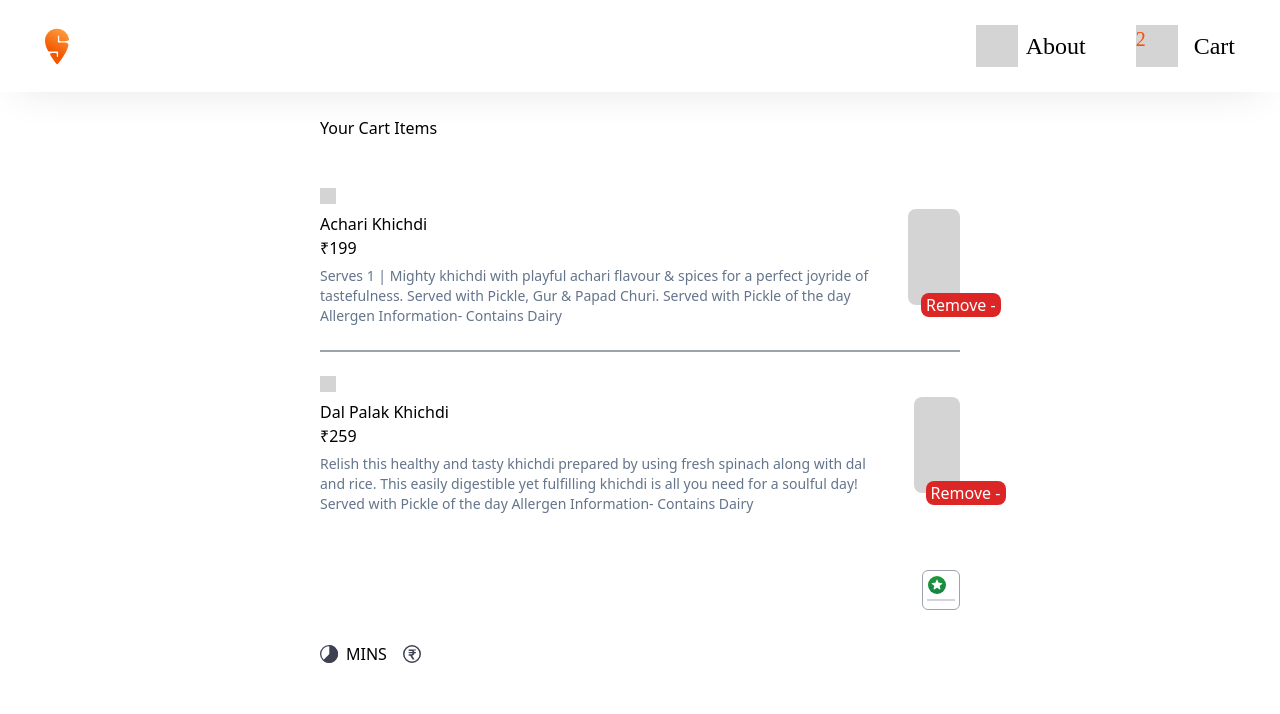
Test: should remove items from cart on click of remove button and decrement cart items number
Click the 1st button "Remove -": (961, 305) [921, 293, 1001, 317]
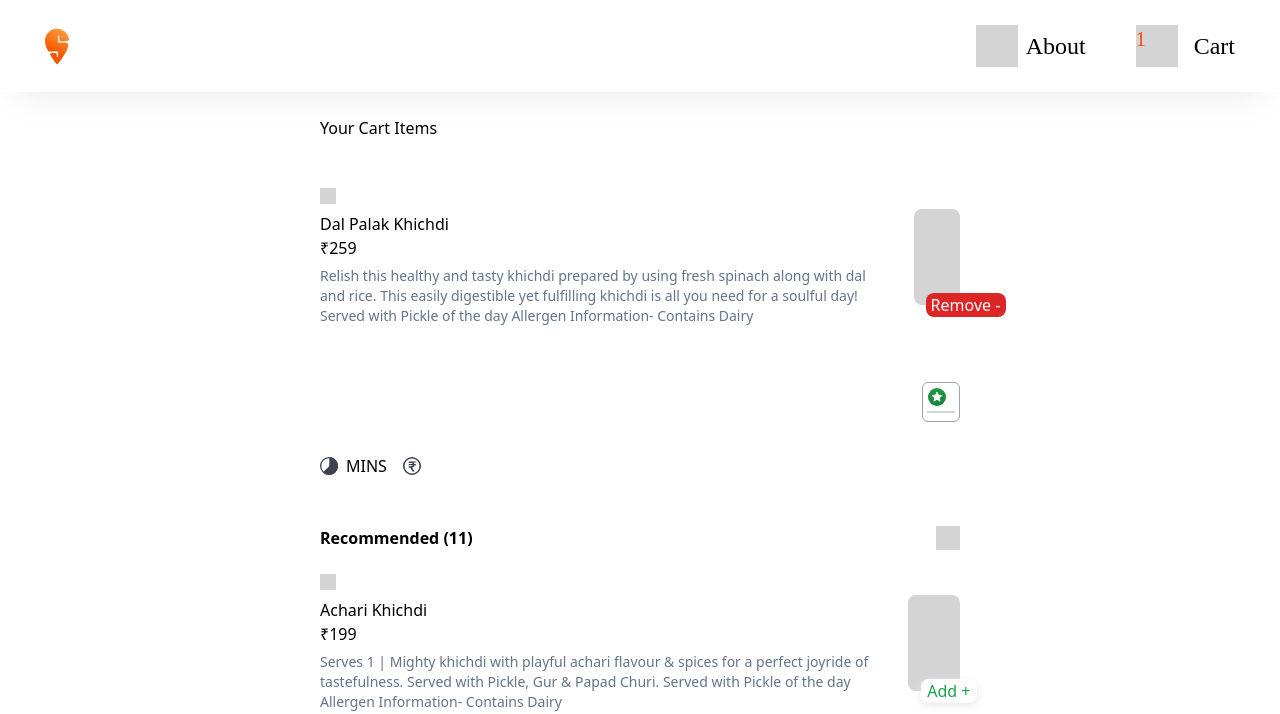
Check: the text "1" is shown, box [1136, 28, 1146, 50]
